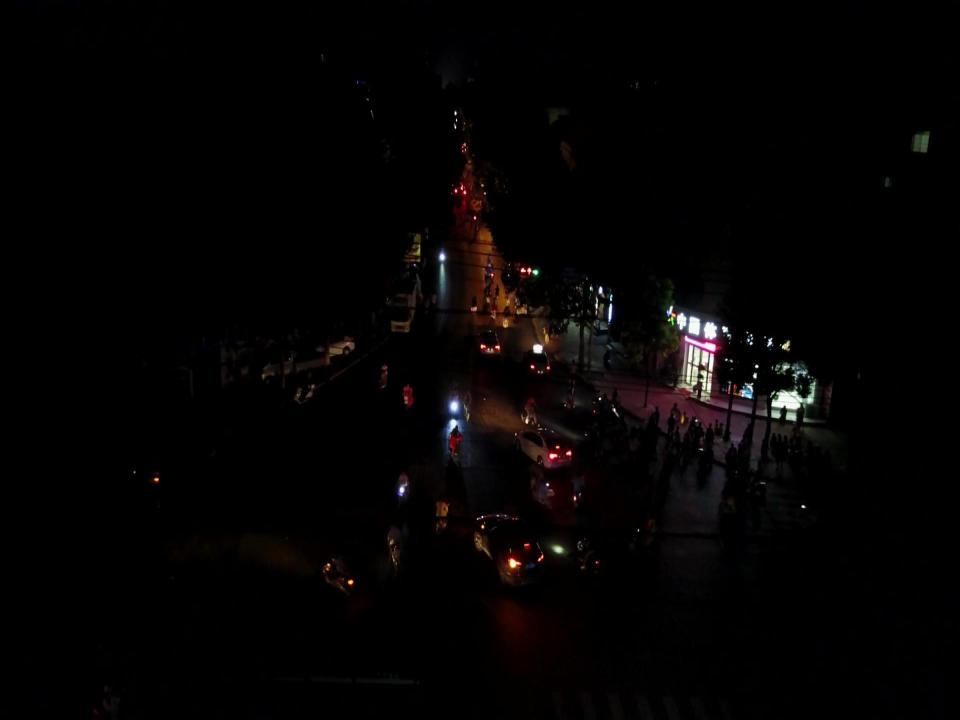car: (475, 515, 545, 587), (513, 430, 573, 468), (260, 354, 336, 384), (316, 336, 354, 358), (524, 348, 552, 377), (477, 330, 501, 356)
truck: (388, 282, 414, 334)
